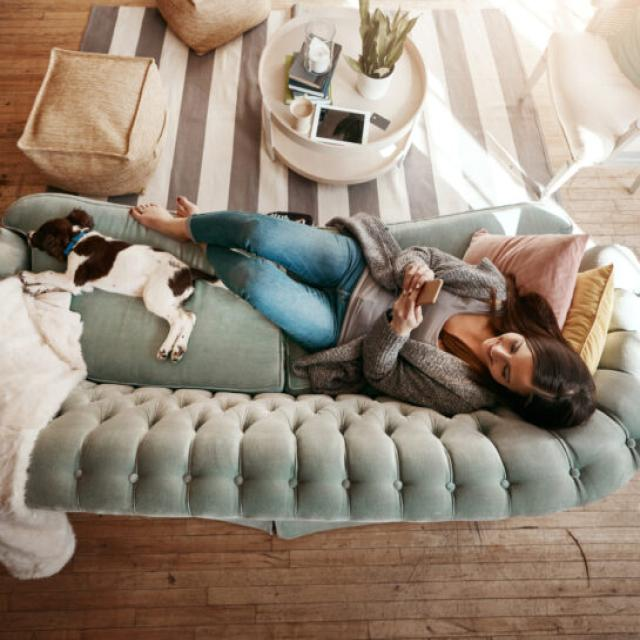intrusion detected: (130, 200, 610, 430)
